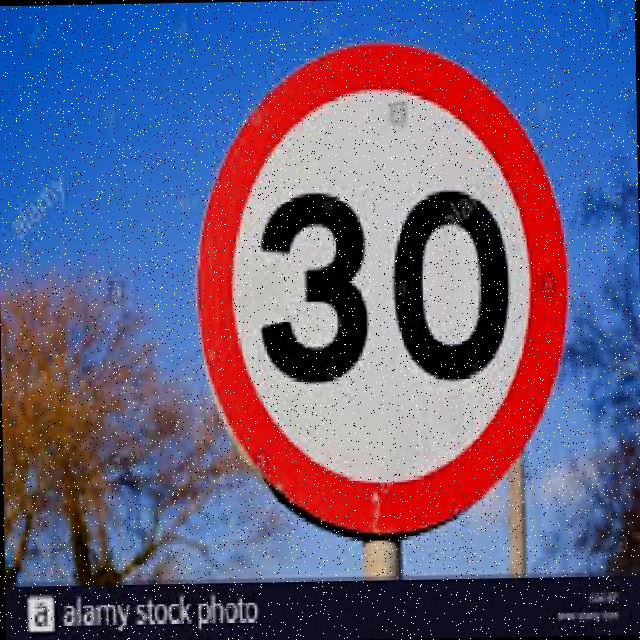Ograniczenie predkosci do 30: (205, 56, 556, 528)
